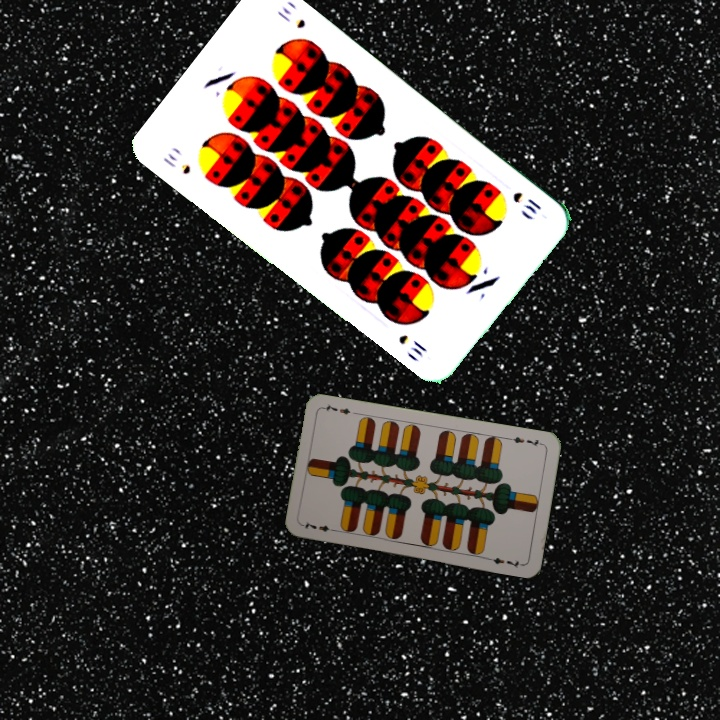E7: (299, 518, 340, 535), (505, 433, 545, 449)
S10: (508, 188, 544, 217), (159, 149, 194, 177)
